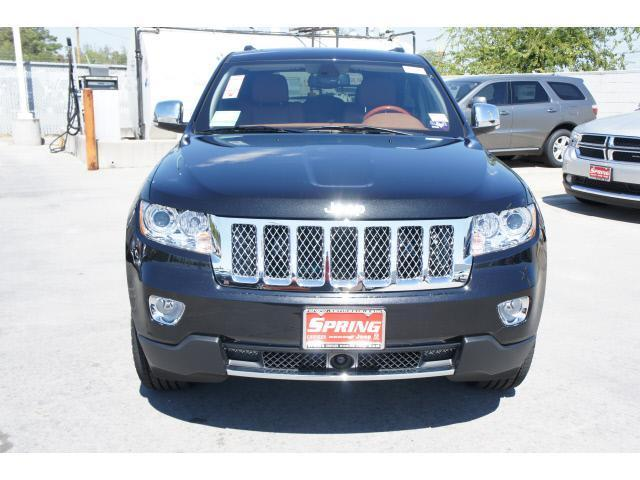jeep: (310, 193, 381, 231)
